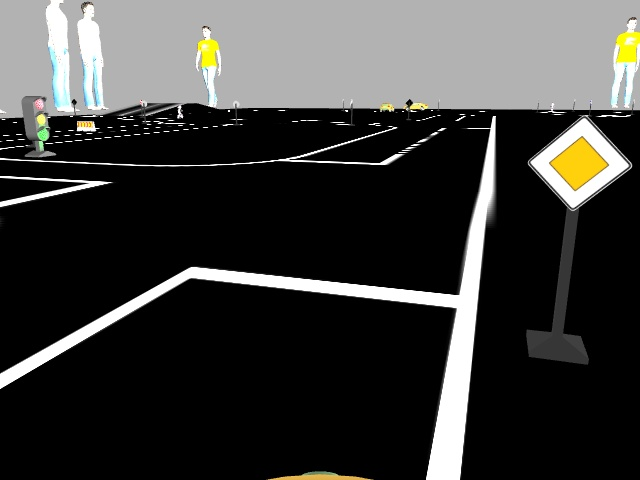ClosedRoadStand: (77, 120, 95, 132)
Priority: (530, 116, 630, 202)
TrafficLight: (22, 96, 48, 140)
